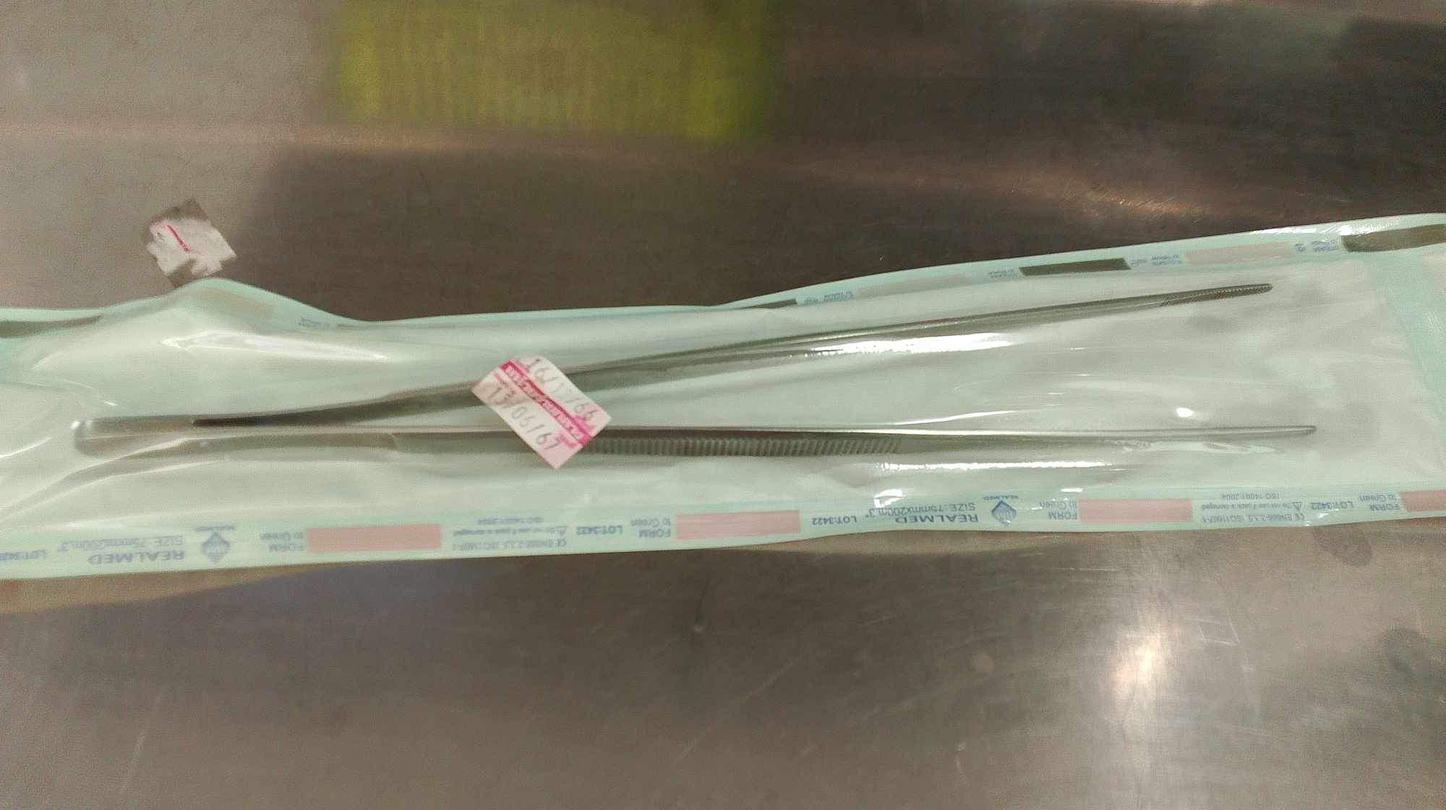General: (3, 208, 1442, 581)
Sharps: (70, 410, 1317, 459)
